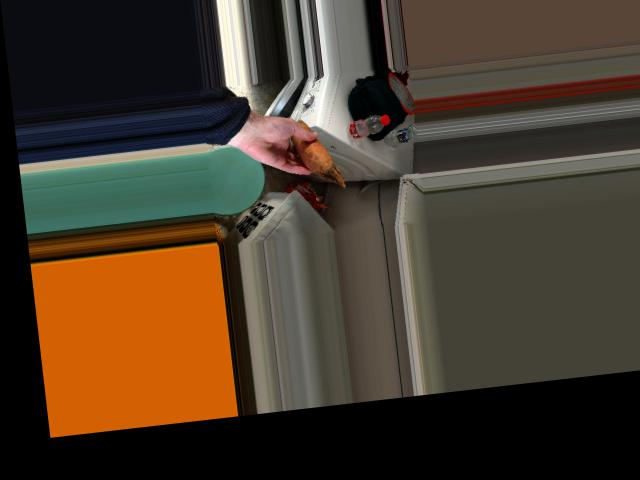sweet_potato: (284, 123, 334, 174)
